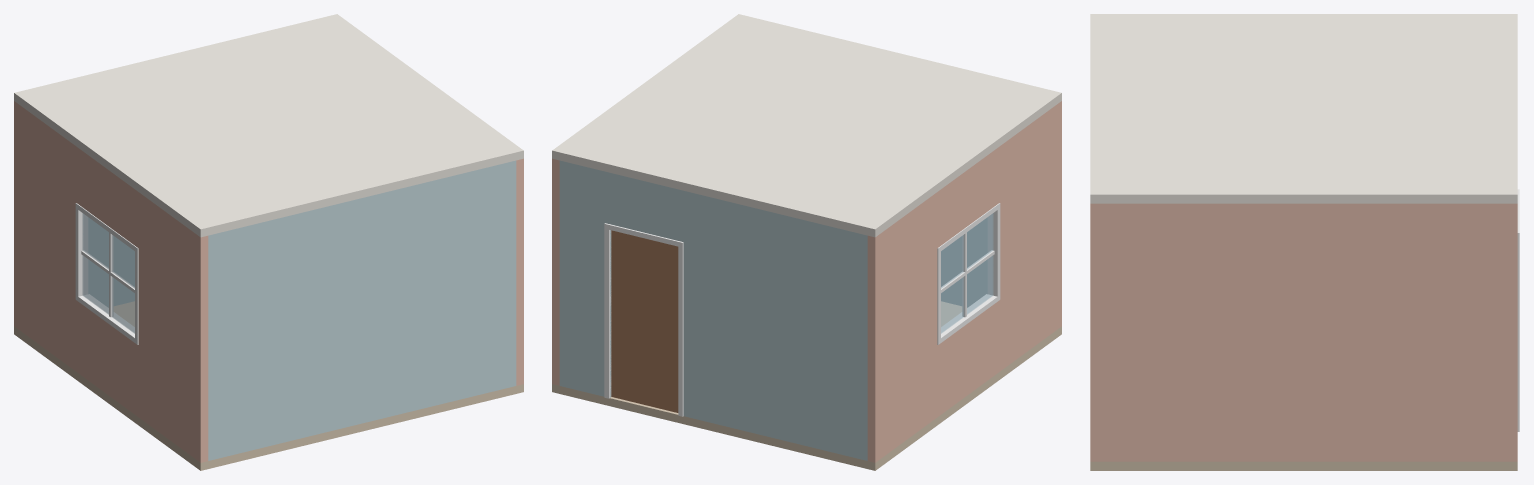
File: low_poly_room.glb
3 renders of one model, left to right at view 1: azimuth 30°, elevation 25°; view 2: azimuth 150°, elevation 25°; view 3: azimuth 270°, elevation 25°, orthographic. The views are drawn at different scales.
Visible parts, largest first — view 1: Wall_South, Ceiling, Wall_West, Floor, Window_Glass, Window_Frame, Wall_North, Wall_East; view 2: Ceiling, Wall_North, Wall_West, Door_Leaf, Floor, Window_Glass, Window_Frame, Door_Frame, Wall_South, Wall_East; view 3: Wall_East, Ceiling, Floor, Door_Frame.
Part boxes in pixels (x1,y1,x2,y2): Wall_South: [208, 160, 516, 460]; Ceiling: [14, 14, 523, 237]; Wall_West: [14, 101, 208, 462]; Floor: [14, 301, 523, 470]; Window_Glass: [82, 213, 134, 333]; Window_Frame: [75, 203, 138, 344]; Wall_North: [88, 218, 134, 307]; Wall_East: [516, 158, 523, 385]; Ceiling: [552, 14, 1061, 237]; Wall_North: [559, 160, 867, 460]; Wall_West: [867, 101, 1061, 462]; Door_Leaf: [611, 230, 678, 412]; Floor: [552, 301, 1061, 470]; Window_Glass: [941, 213, 993, 333]; Window_Frame: [937, 203, 1000, 344]; Door_Frame: [604, 223, 683, 416]; Wall_South: [941, 218, 987, 307]; Wall_East: [552, 158, 559, 385]; Wall_East: [1090, 203, 1517, 461]; Ceiling: [1090, 14, 1517, 203]; Floor: [1090, 461, 1517, 470]; Door_Frame: [1517, 189, 1519, 431].
Bounding box in the file's own units: 4.21 × 3 × 4.22.
